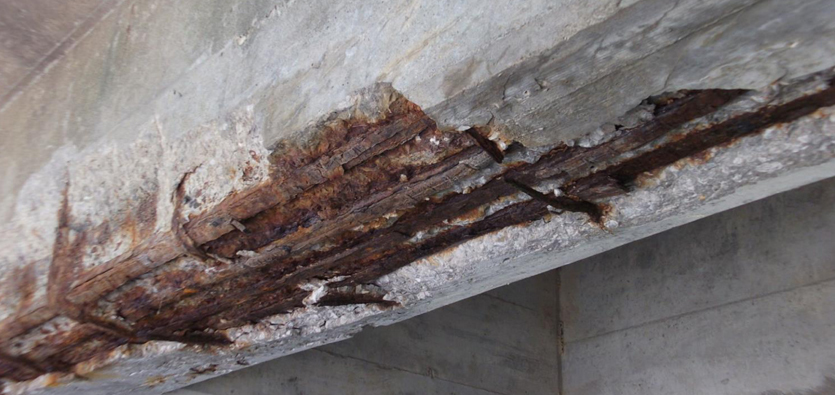rust: (192, 159, 506, 315)
